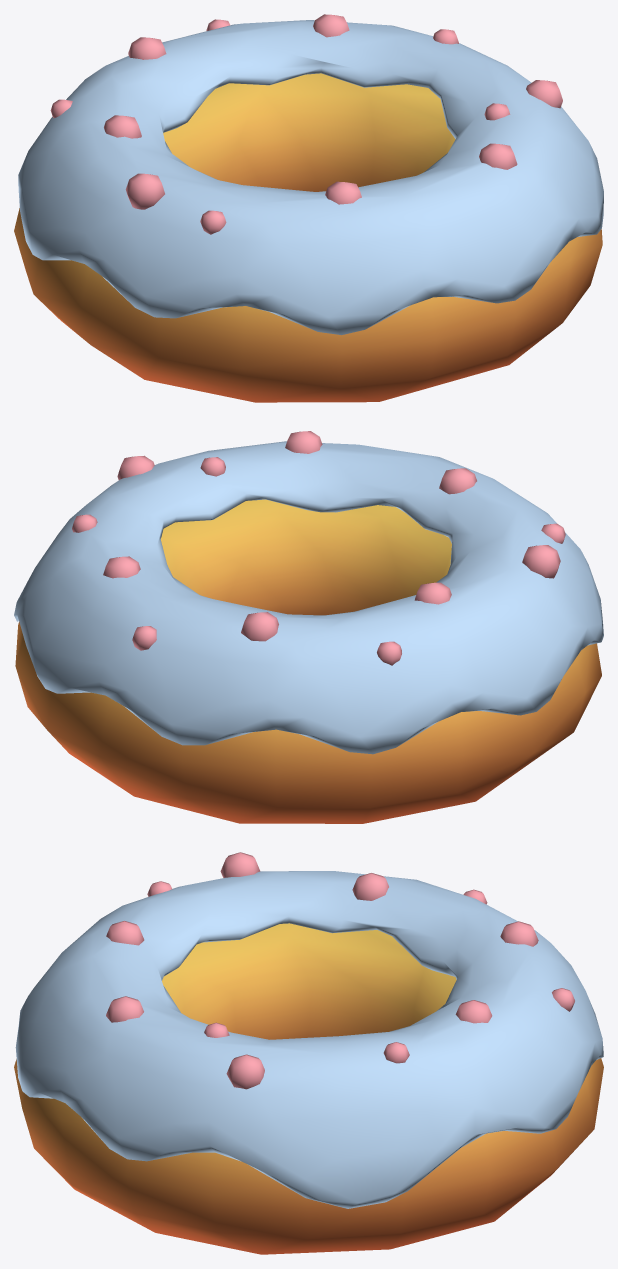
Rendered from Donut-2.fbx.
3 renders of one model, top to bottom at view 1: azimuth 30°, elevation 25°; view 2: azimuth 150°, elevation 25°; view 3: azimuth 270°, elevation 25°, orthographic.
Visible parts, largest first — view 1: Donut-2; view 2: Donut-2; view 3: Donut-2.
Boxes of the visible parts, <box> form: Donut-2: <box>14,14,603,402</box>; Donut-2: <box>14,431,603,823</box>; Donut-2: <box>14,852,603,1254</box>.
Size of the model in its own units: 50.32 by 19.68 by 49.97.
